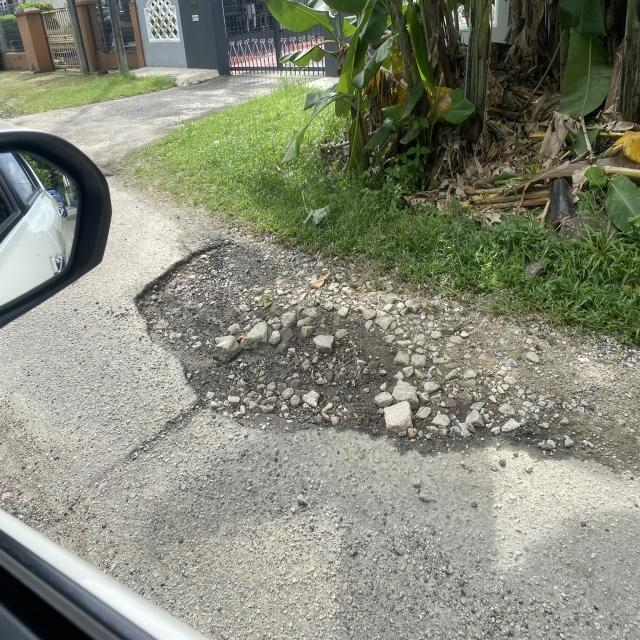pothole: (120, 239, 521, 495)
